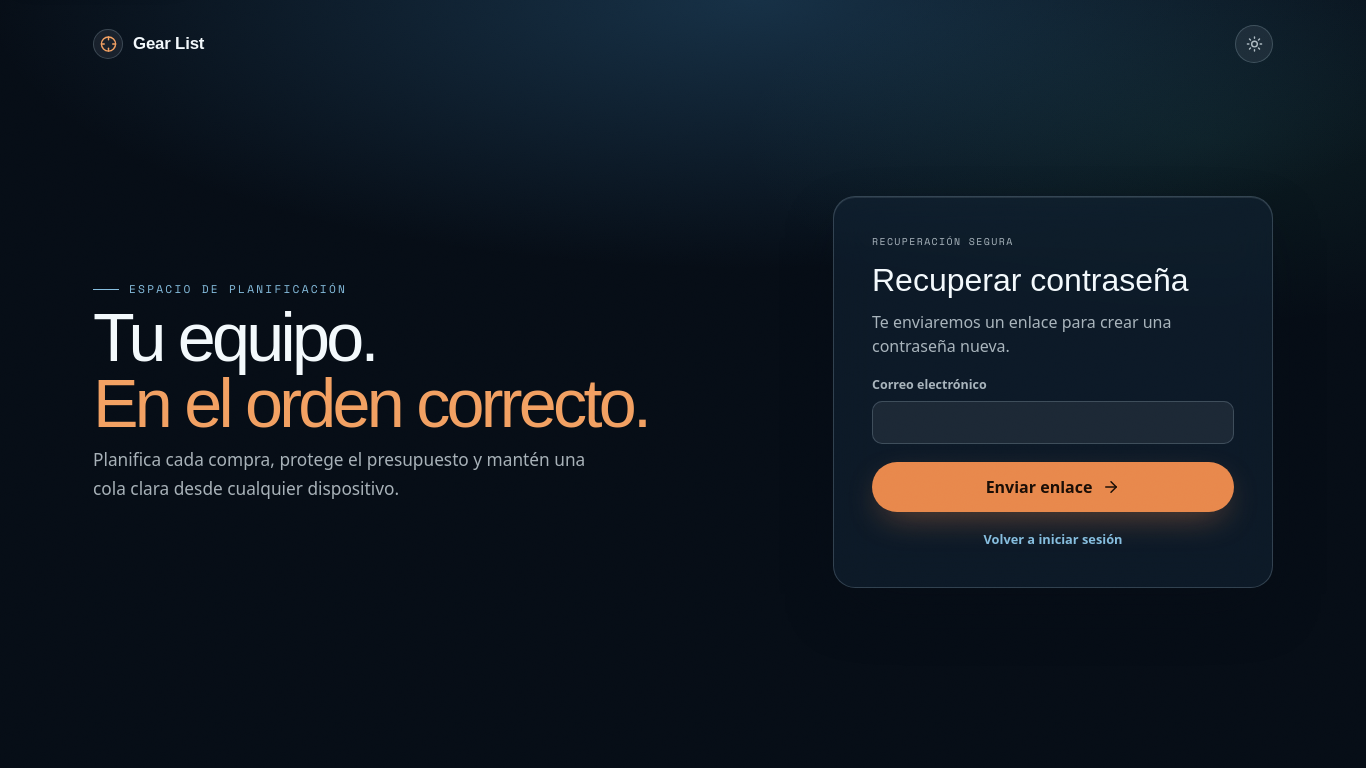
it: Recuperación de contraseña › valida el correo y muestra una confirmación no enumerativa
The width and height of the screenshot is (1366, 768).
Click the button "Enviar enlace" at (1053, 487), box [872,462,1234,512]
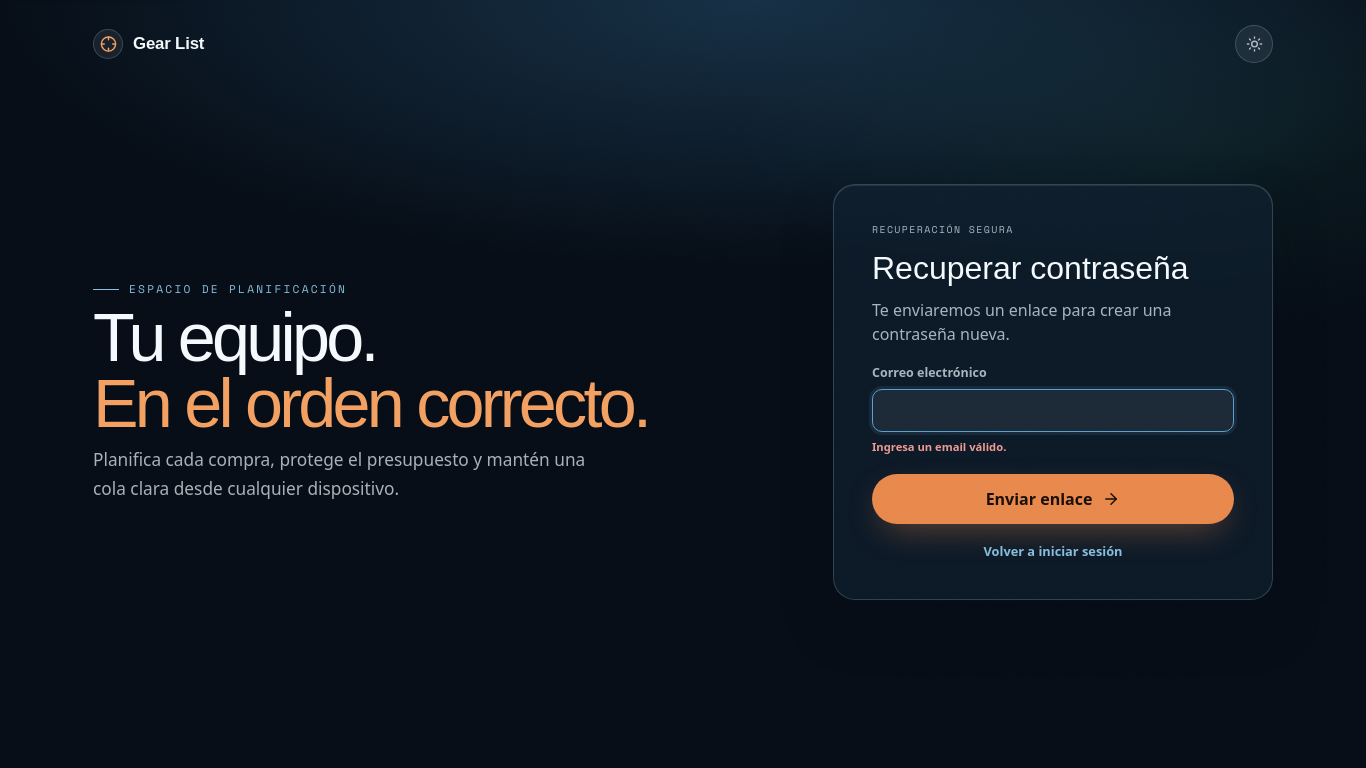
Expected: the text "Ingresa un email válido." is shown, [872,439,1006,454]
Type "marcos@example.com" into the field labelled "Correo electrónico Ingresa un email válido." at (1053, 411), box [872,390,1234,432]
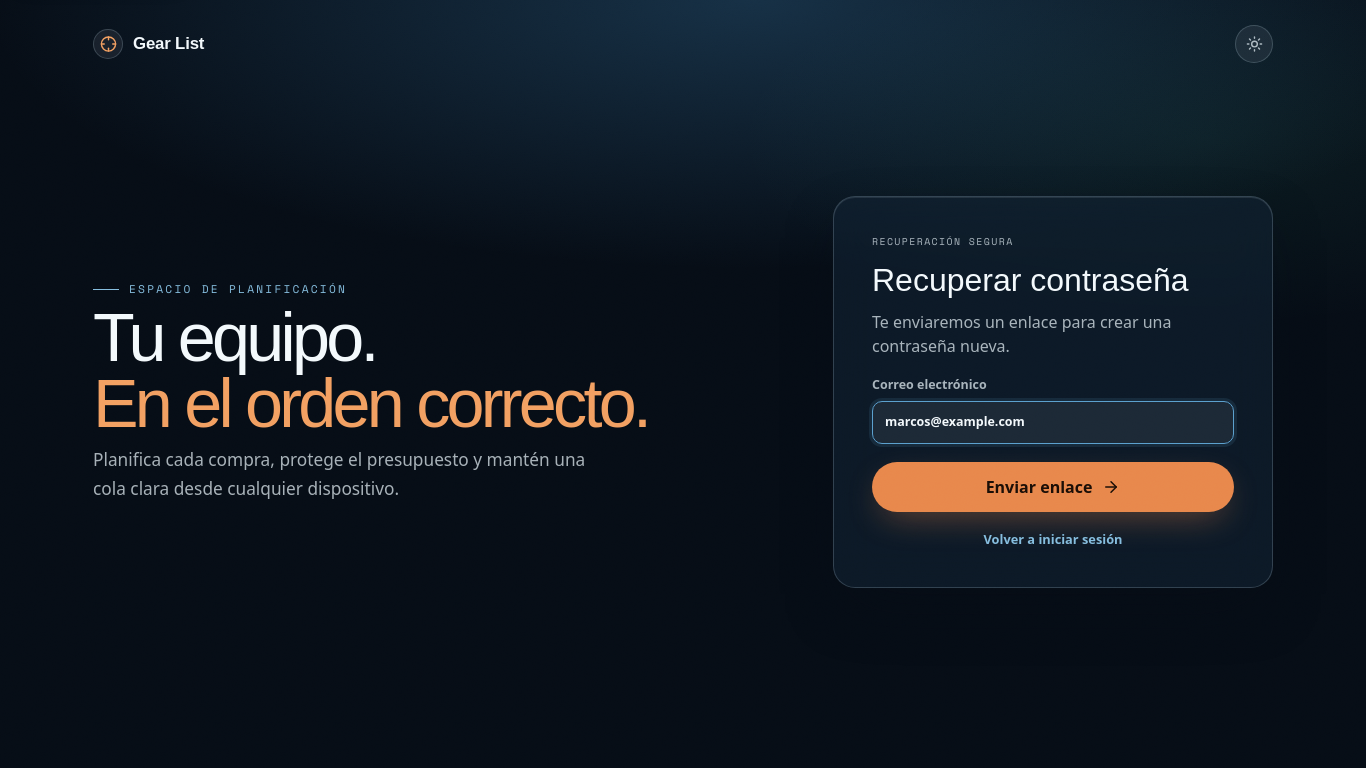
Click the button "Enviar enlace" at (1053, 487), box [872,462,1234,512]
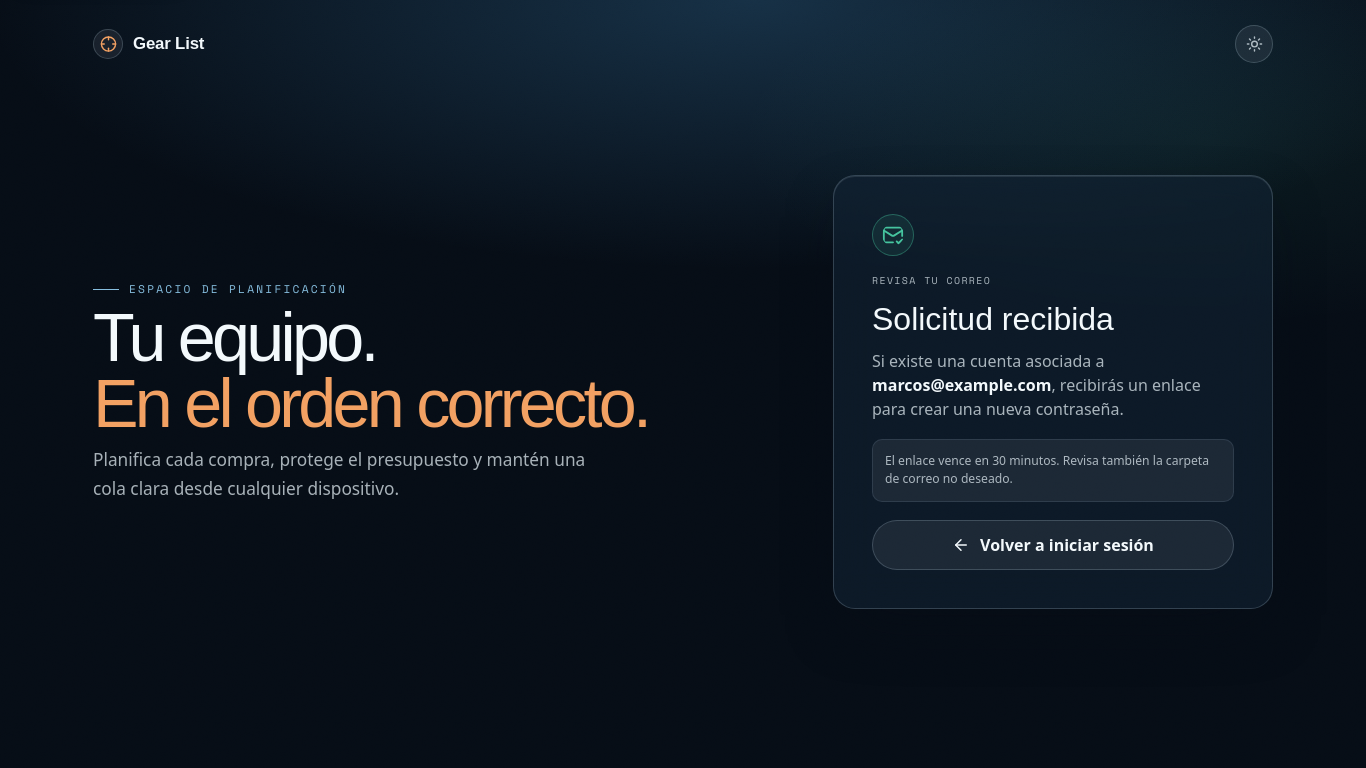
Expected: the heading "Solicitud recibida" is shown, [872,301,1114,337]
Expected: the text "marcos@example.com" is shown, [872,374,1051,396]
